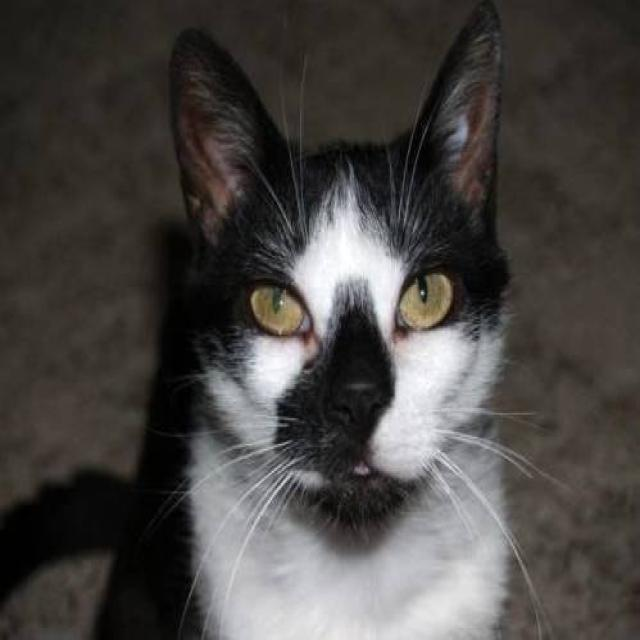cat-eye-normal: (239, 271, 326, 348), (388, 258, 468, 338)
